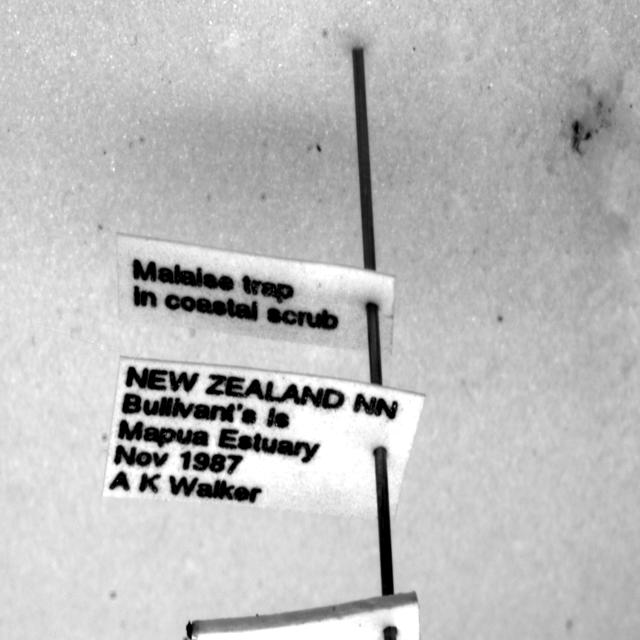typed_label: (104, 358, 424, 519), (118, 234, 395, 352)
